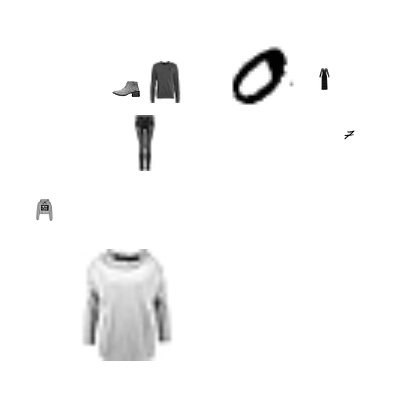0: (218, 32, 302, 116)
7: (342, 127, 356, 141)
Ankle_boot: (112, 75, 140, 103)
Dress: (313, 68, 335, 90)
Pullover: (71, 249, 183, 361), (144, 61, 186, 103), (33, 199, 55, 221)
Trouser: (117, 115, 173, 171)
